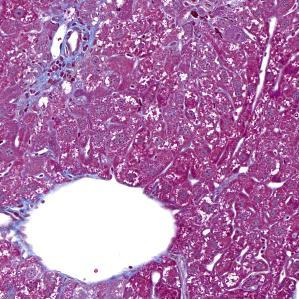fibrosis: (47, 34, 99, 88)
